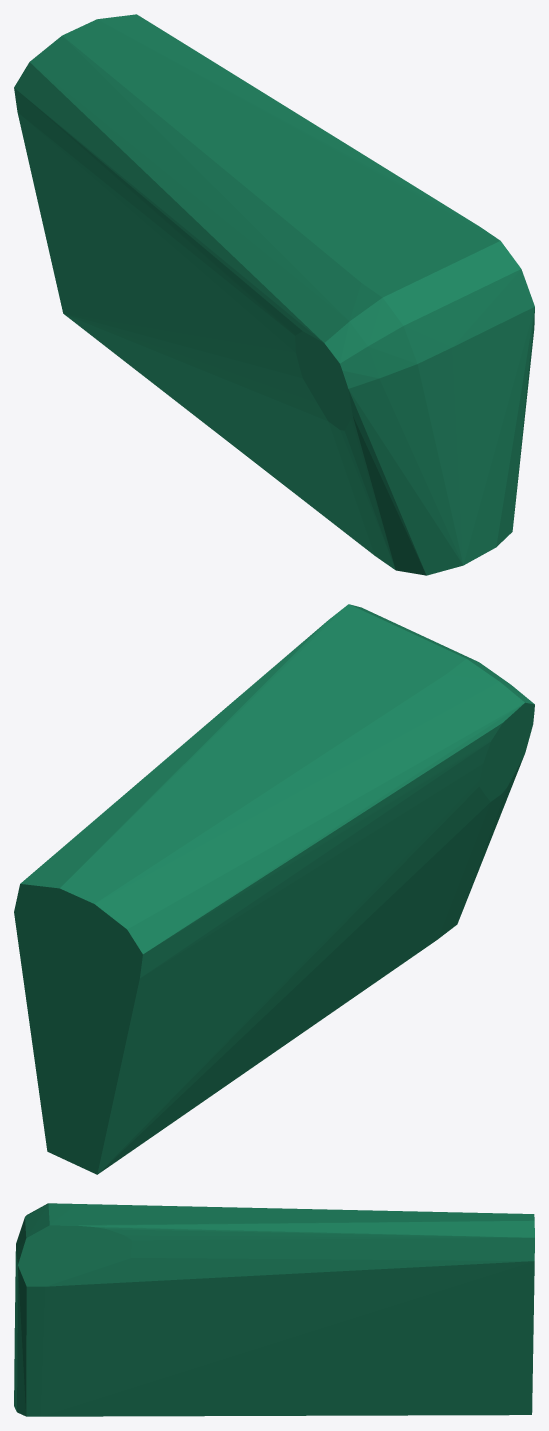
Rendered from converted_Downdraft_Assy_collision_17_1d8560ff.obj.
3 renders of one model, top to bottom at view 1: azimuth 30°, elevation 25°; view 2: azimuth 150°, elevation 25°; view 3: azimuth 270°, elevation 25°, orthographic. The views are drawn at different scales.
Size of the model in its own units: 0.0819 by 0.1222 by 0.2726.
